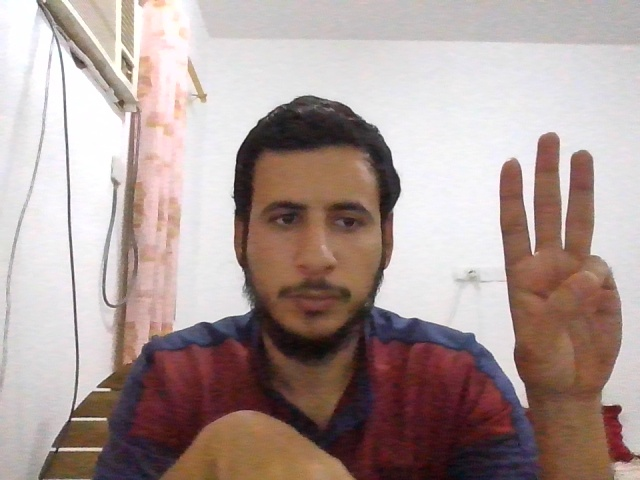Three: (499, 132, 624, 392)
